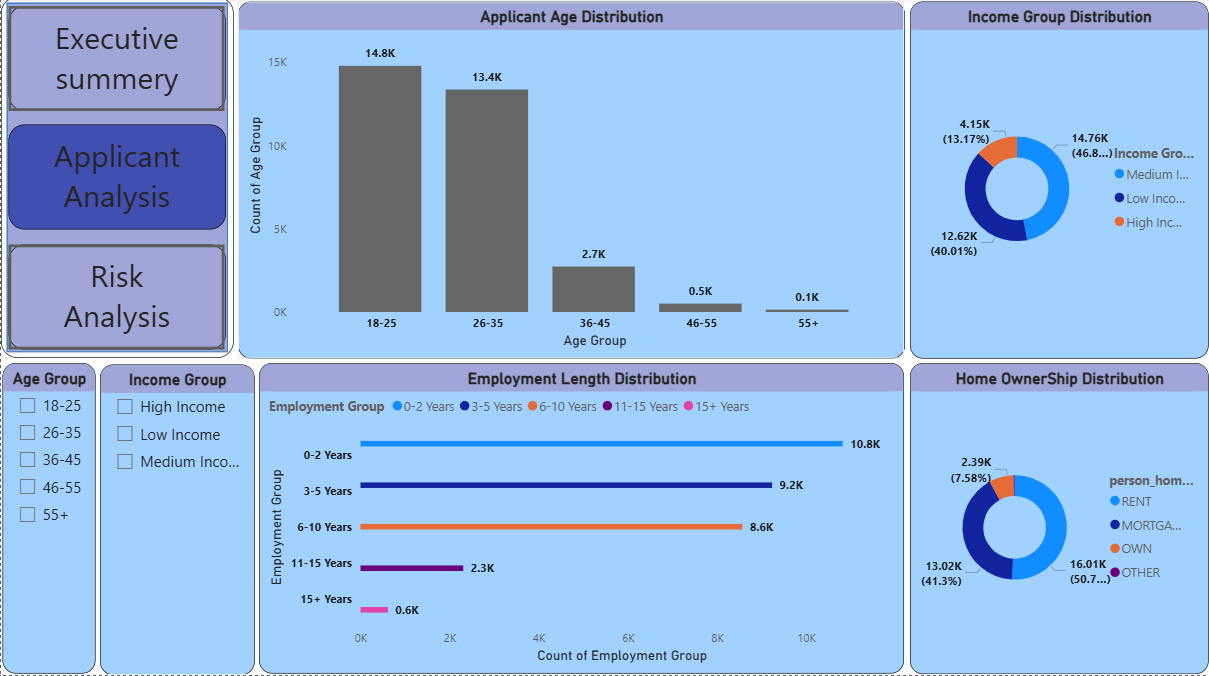

What the dashboard file says about the page in this screenshot:
{"tool":"powerbi","page":{"name":"applicant Analysis","canvas":[1280,720],"ordinal":1},"visuals":[{"type":"shape","box":[0,0,247,382.9],"z":0},{"type":"textbox","box":[8,9,230.6,111.3],"z":1000},{"type":"textbox","box":[8,135.2,230.6,111.3],"z":2000},{"type":"textbox","box":[8,262,230.6,111.3],"z":3000},{"type":"actionButton","box":[8,9.5,229,111.3],"z":4000},{"type":"actionButton","box":[8,262.5,229,111.3],"z":5000},{"type":"clusteredColumnChart","title":"Applicant Age Distribution","fields":{"Category":["credit_risk_dataset.Age Group"],"Y":["CountNonNull(credit_risk_dataset.Age Group)"]},"box":[251.3,4.8,707,378.6],"z":5001},{"type":"donutChart","title":"Income Group Distribution","fields":{"Y":["CountNonNull(credit_risk_dataset.Income Group)"],"Category":["credit_risk_dataset.Income Group"]},"box":[963.9,4.8,316.5,378.6],"z":5002},{"type":"donutChart","title":"Home OwnerShip Distribution","fields":{"Category":["credit_risk_dataset.person_home_ownership"],"Y":["CountNonNull(credit_risk_dataset.person_home_ownership)"]},"box":[963.9,388,316.5,330],"z":5003},{"type":"clusteredBarChart","title":"Employment Length Distribution","fields":{"Series":["credit_risk_dataset.Employment Group"],"Category":["credit_risk_dataset.Employment Group"],"Y":["CountNonNull(credit_risk_dataset.Employment Group)"]},"box":[273.6,388.1,684,329.3],"z":5004},{"type":"slicer","title":"Age Group","fields":{"Values":["credit_risk_dataset.Age Group"]},"box":[1,388.1,98.6,329.3],"z":5005},{"type":"slicer","title":"Income Group","fields":{"Values":["credit_risk_dataset.Income Group"]},"box":[105,389.7,163.8,329.3],"z":5006}]}

Visuals, with their boxes in screenshot pixels (x1, y1, x2, y2), scaled from the page's 1280x720 canvas onto the 1209x676 screenshot:
shape: box=[0, 0, 233, 360]
textbox: box=[8, 8, 225, 113]
textbox: box=[8, 127, 225, 231]
textbox: box=[8, 246, 225, 350]
actionButton: box=[8, 9, 224, 113]
actionButton: box=[8, 246, 224, 351]
"Applicant Age Distribution" clusteredColumnChart: box=[237, 5, 905, 360]
"Income Group Distribution" donutChart: box=[910, 5, 1208, 360]
"Home OwnerShip Distribution" donutChart: box=[910, 364, 1208, 674]
"Employment Length Distribution" clusteredBarChart: box=[258, 364, 904, 674]
"Age Group" slicer: box=[1, 364, 94, 674]
"Income Group" slicer: box=[99, 366, 254, 675]
